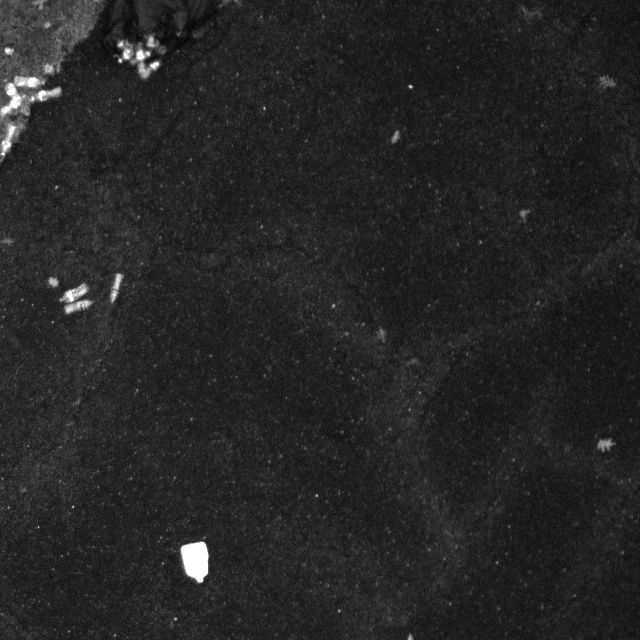bottle: (56, 278, 92, 307), (134, 56, 169, 83), (25, 85, 66, 105), (10, 71, 50, 91), (106, 270, 129, 304), (60, 297, 98, 316)
can: (172, 540, 215, 586)
